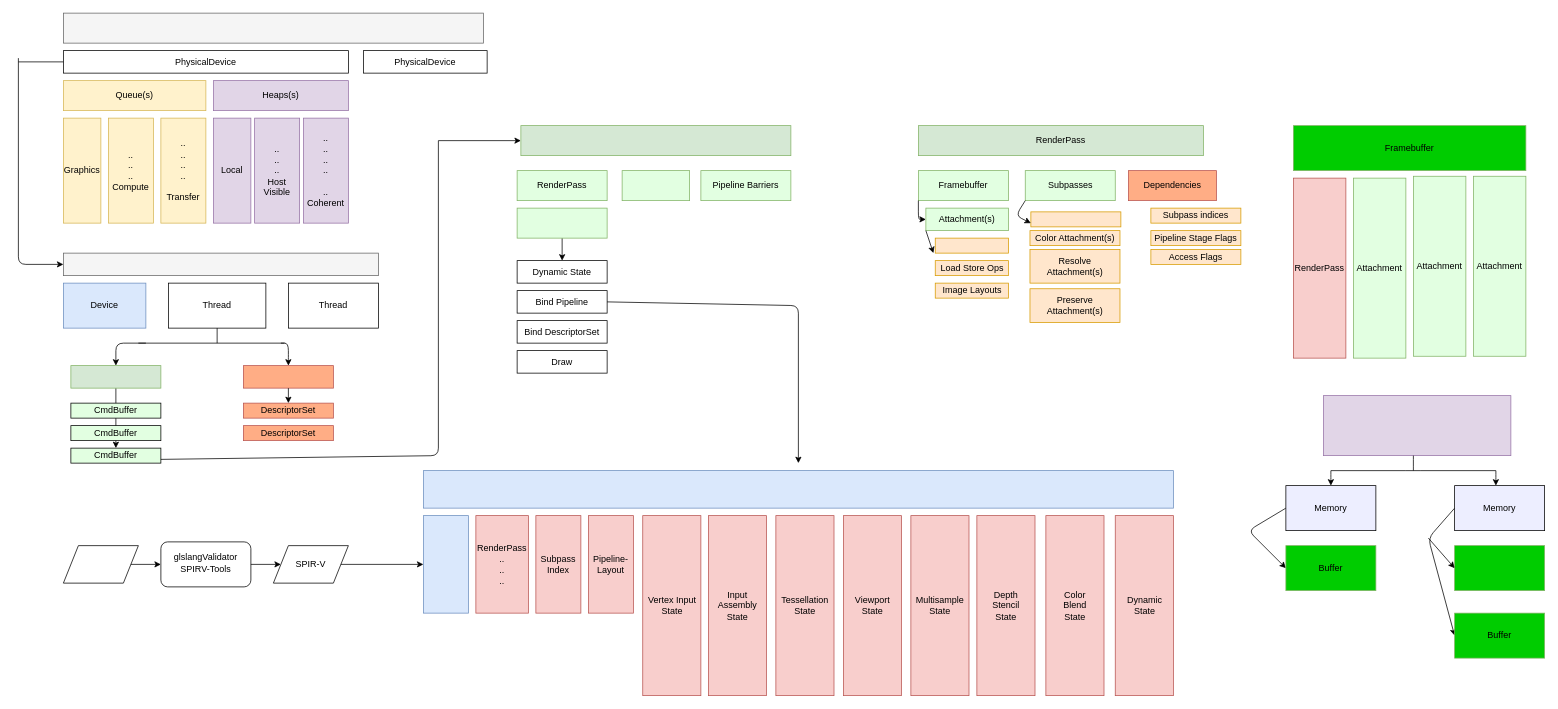
Image size: 1558x709. Some labels were removed from this diagram. Here are the shapes that lost their labels. From the top down, the centre of each, then its label:
[273,27]: Instance
[655,140]: CommandBuffer
[655,185]: Dispatch
[561,222]: Subpass(s)
[1075,219]: Input Attachment(s)
[220,264]: Application
[971,245]: Image format
[115,376]: CommandPool
[288,376]: DescriptorPool
[1417,425]: Memory Heap
[798,489]: Pipeline
[100,564]: GLSL
[445,564]: Shader Modules .. .. .. .. ..
[1499,568]: Image
